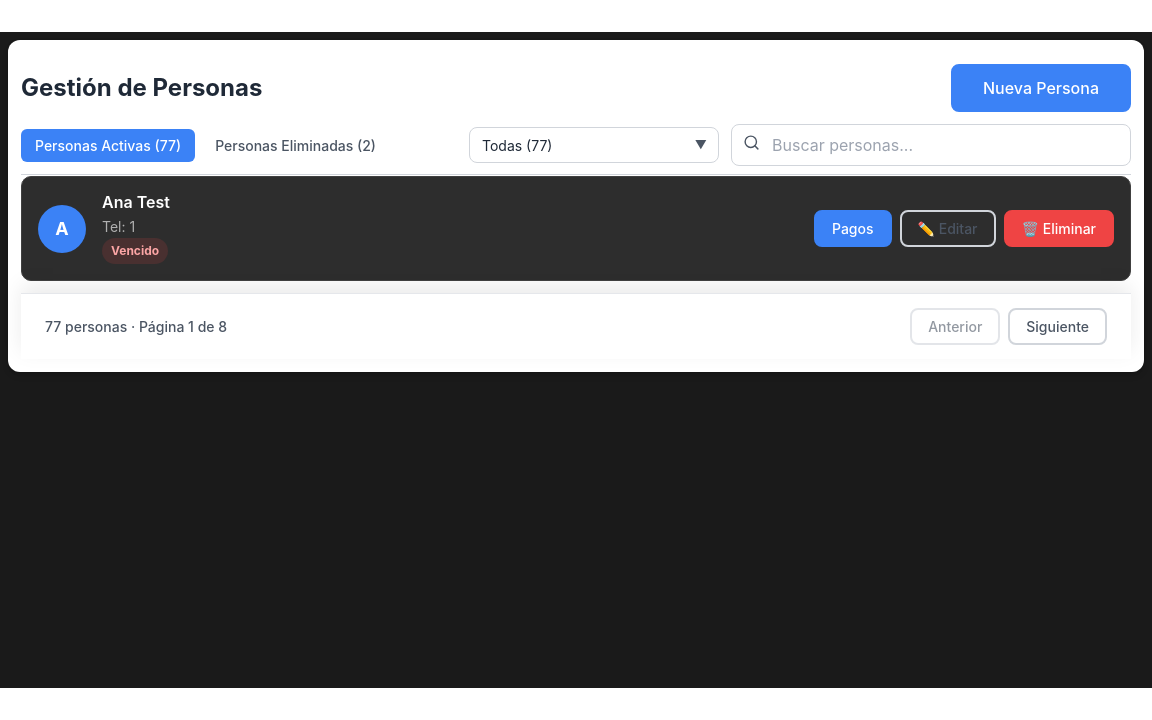
it: advierte un posible duplicado y permite reutilizar la persona existente
Click the button "Nueva Persona": x=1041, y=88 [951,64,1131,112]
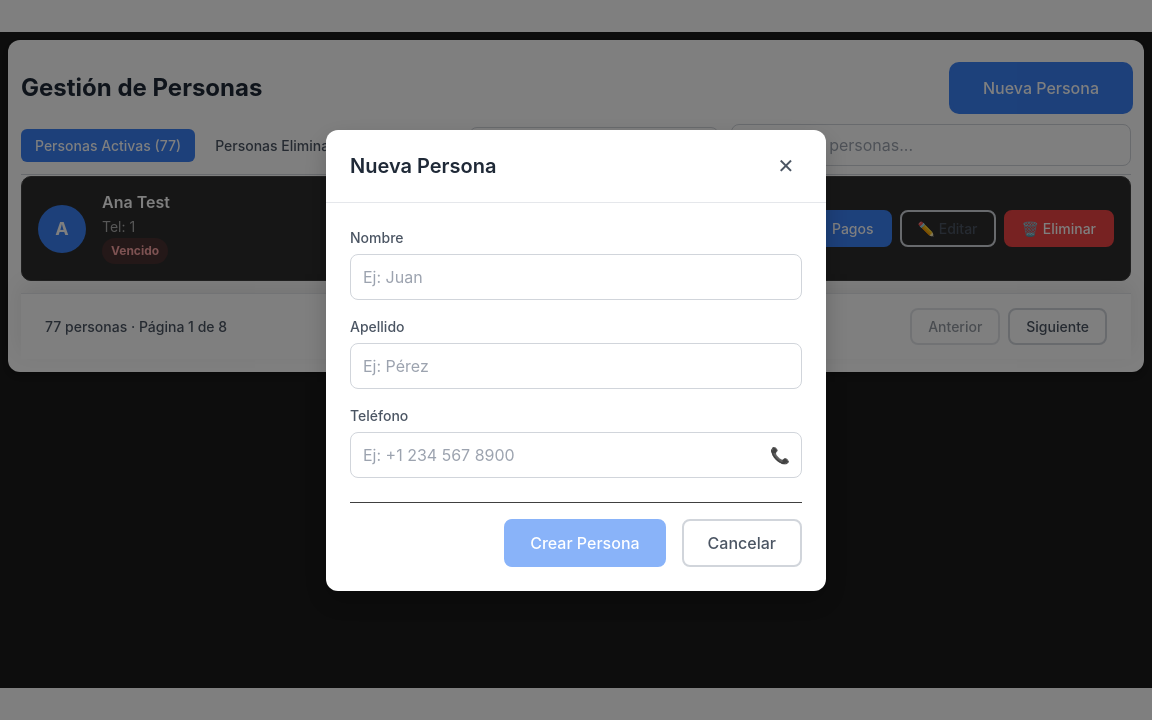
In the field labelled "Nombre": x=576, y=276 [350,254,802,300], type "ana"
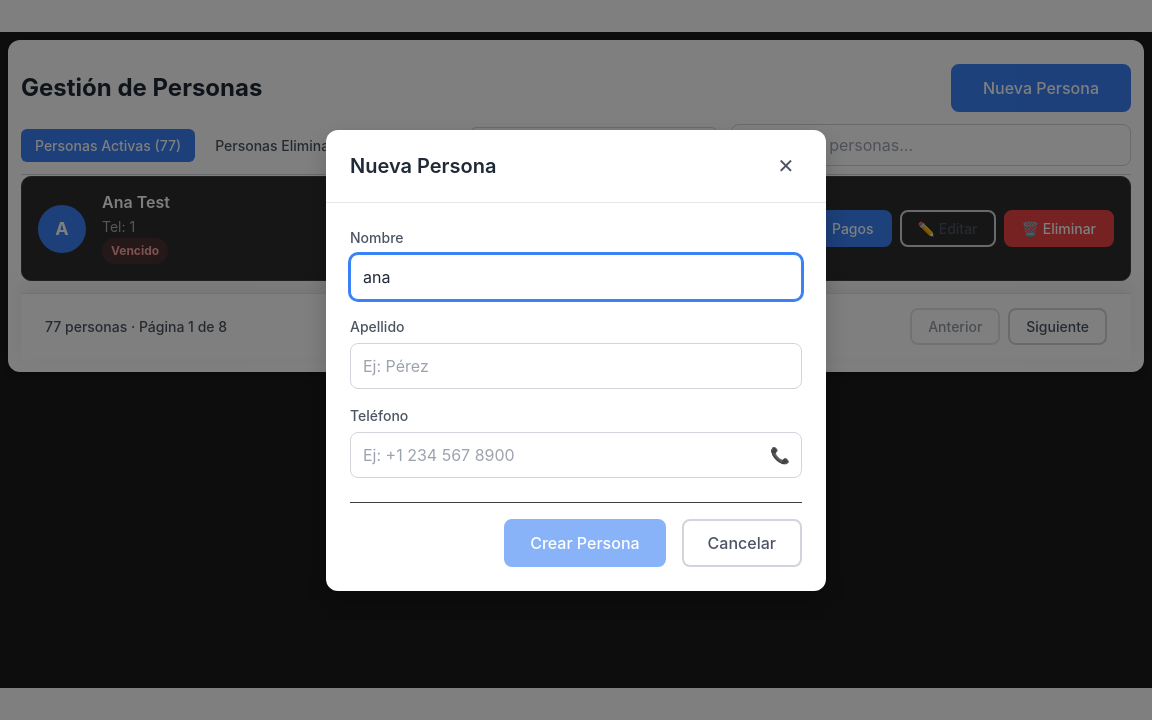
In the field labelled "Apellido": x=576, y=366 [350,342,802,388], type "test"
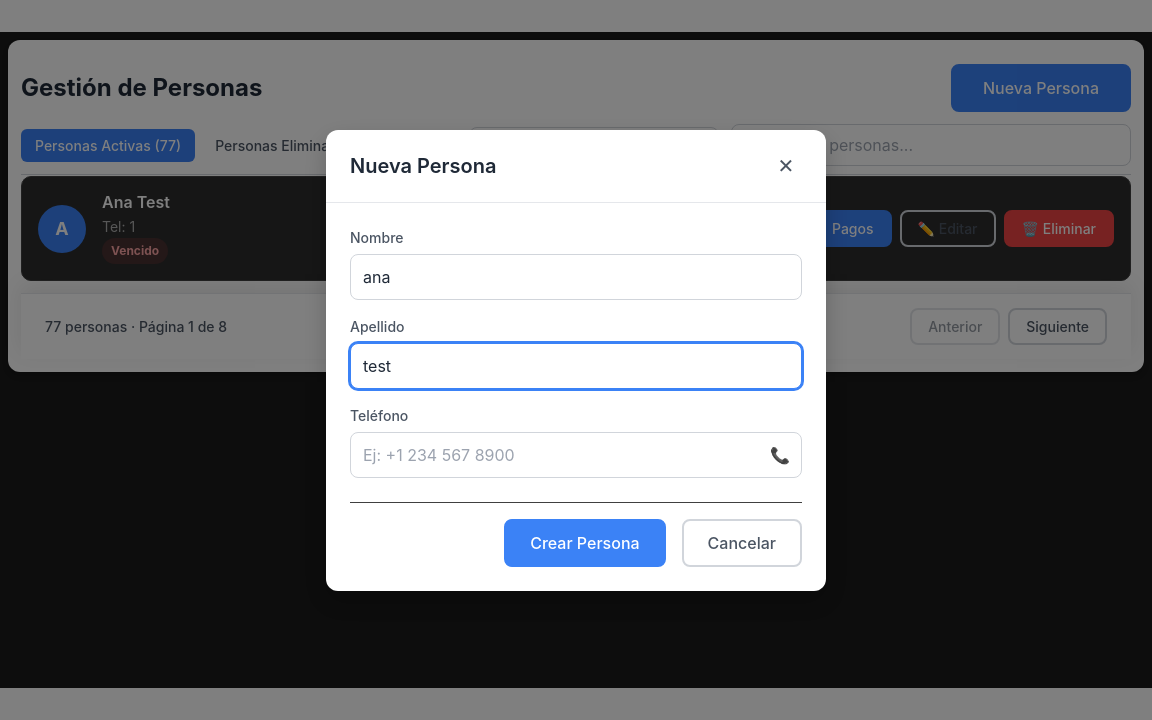
In the field labelled "Teléfono": x=576, y=454 [350,432,802,478], type "1"
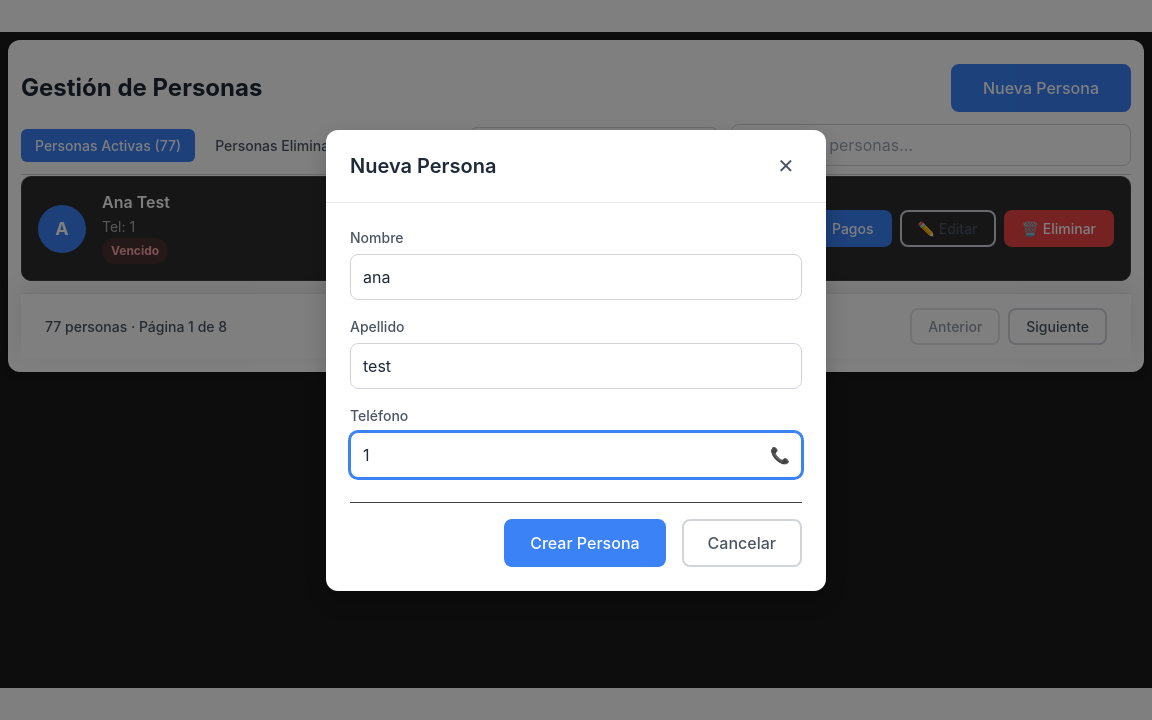
Click the button "Crear Persona": x=585, y=542 [504,518,666,566]
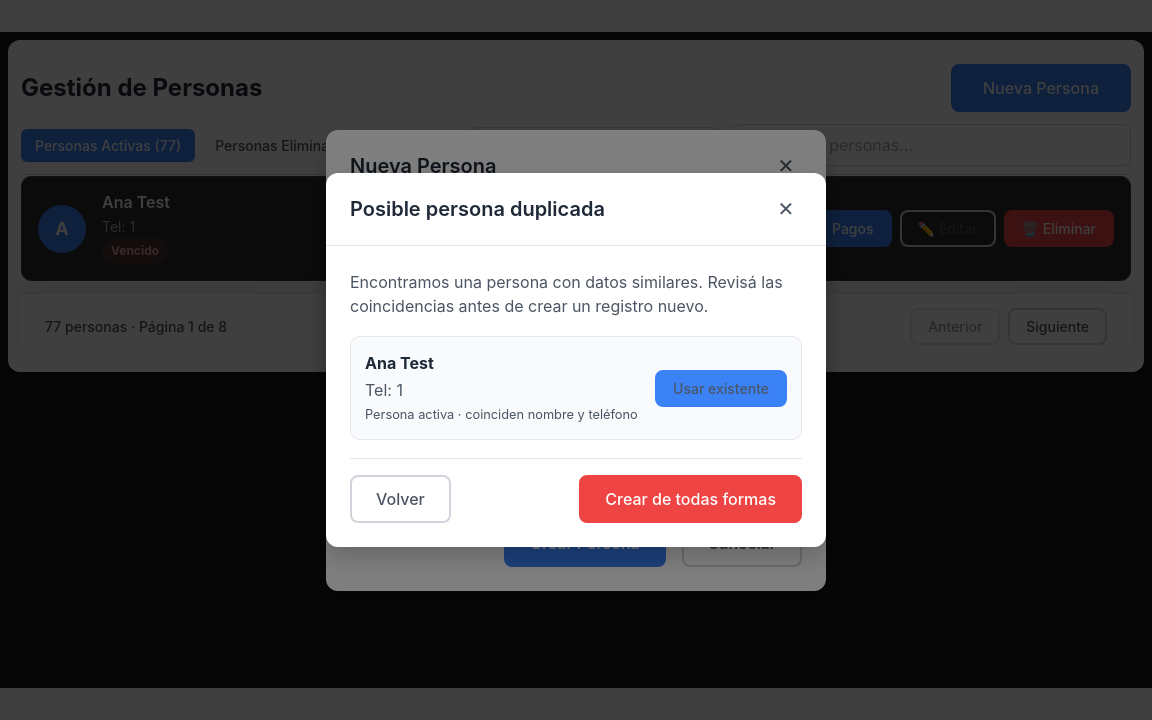
Now the heading "Posible persona duplicada" is shown, box [350,194,605,224]
Now the text "coinciden nombre y teléfono" is shown, box [465,407,638,422]
Click the button "Usar existente": x=721, y=388 [655,370,787,406]
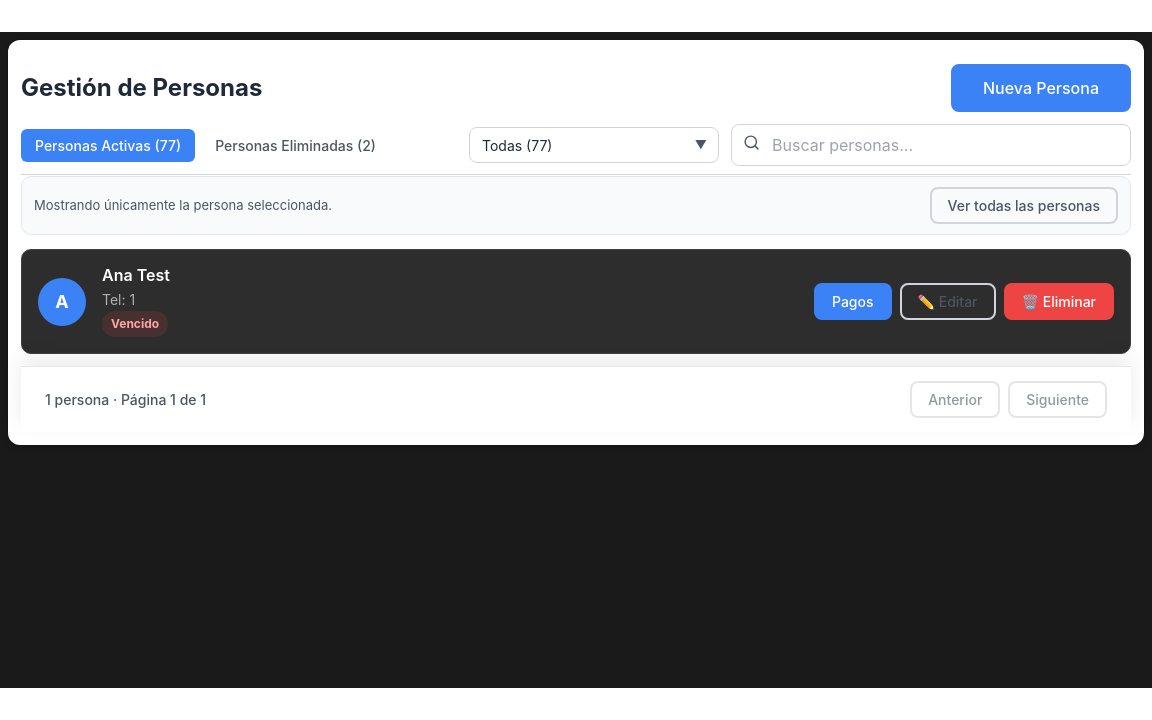
Now the heading "Posible persona duplicada" is gone
